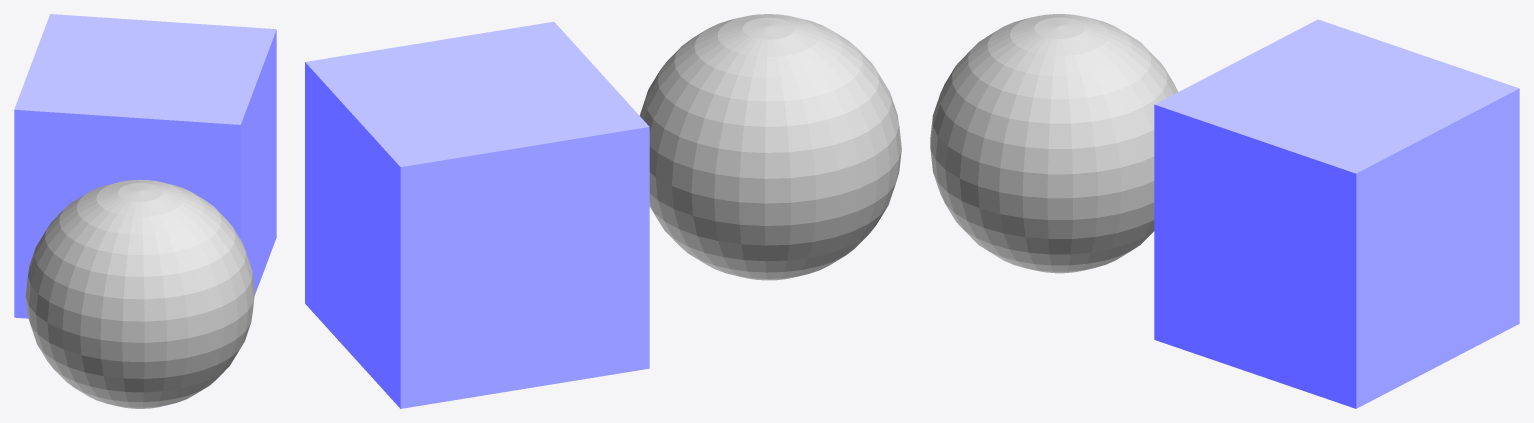
File: LB10_miss02.glb
3 views of the same model, side by side, from view 1: azimuth 30°, elevation 25°; view 2: azimuth 150°, elevation 25°; view 3: azimuth 270°, elevation 25° (orthographic). The views are drawn at different scales.
Parts seen in each view (by area): view 1: Cube, Sphere; view 2: Cube, Sphere; view 3: Cube, Sphere.
Part boxes in pixels (left/top/right/bottom): Cube: left=14, top=14, right=276, bottom=318; Sphere: left=25, top=179, right=254, bottom=408; Cube: left=305, top=21, right=649, bottom=408; Sphere: left=639, top=14, right=901, bottom=280; Cube: left=1154, top=19, right=1519, bottom=408; Sphere: left=930, top=14, right=1177, bottom=273.
Bounding box in the file's own units: 3.69 × 2 × 4.54.
